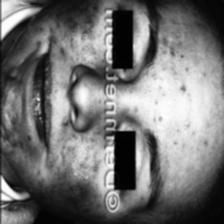Non-Cancerous Skin Condition: (48, 0, 100, 218), (147, 23, 206, 154)
